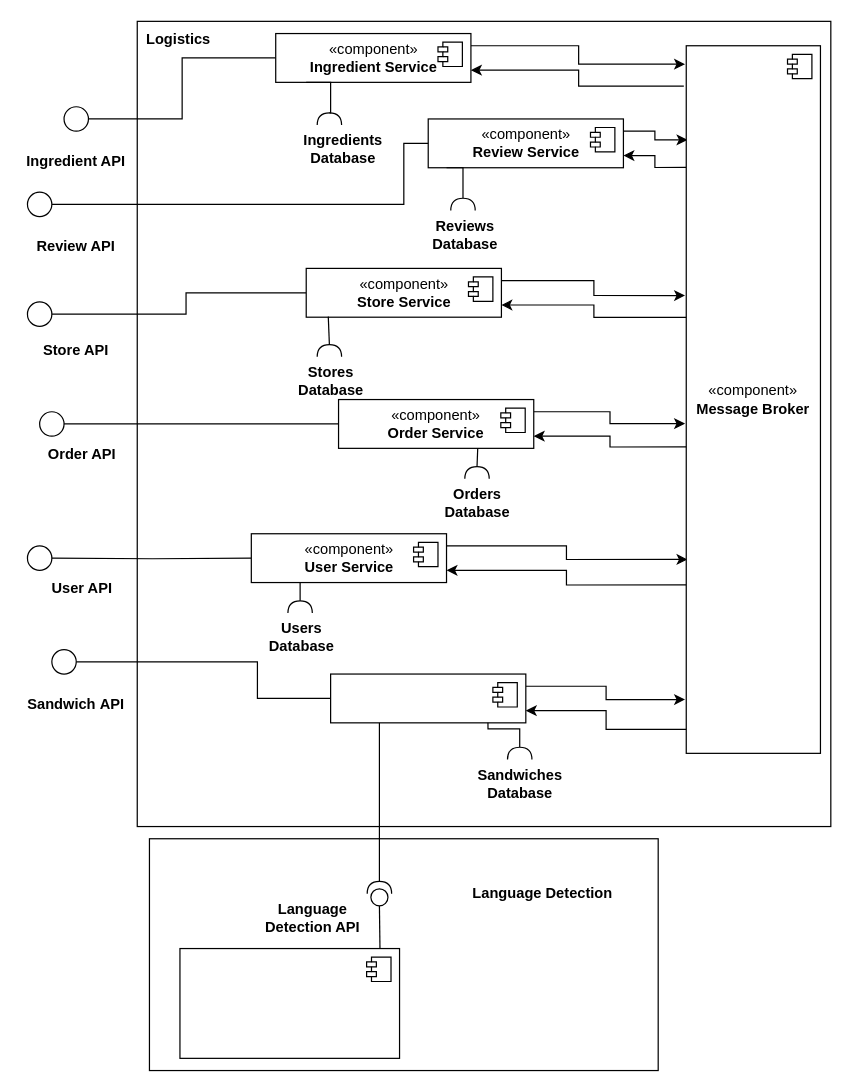
This 852x1092 diagram has some shape labels left out. The centre of each missing label's shape, as x and y in pixels:
«component» Language Detection Service: pixel 289 1002
«component» Sandwich Service: pixel 427 698
